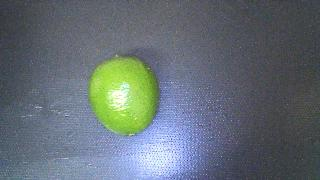EXPORTACION: (88, 56, 159, 136)
